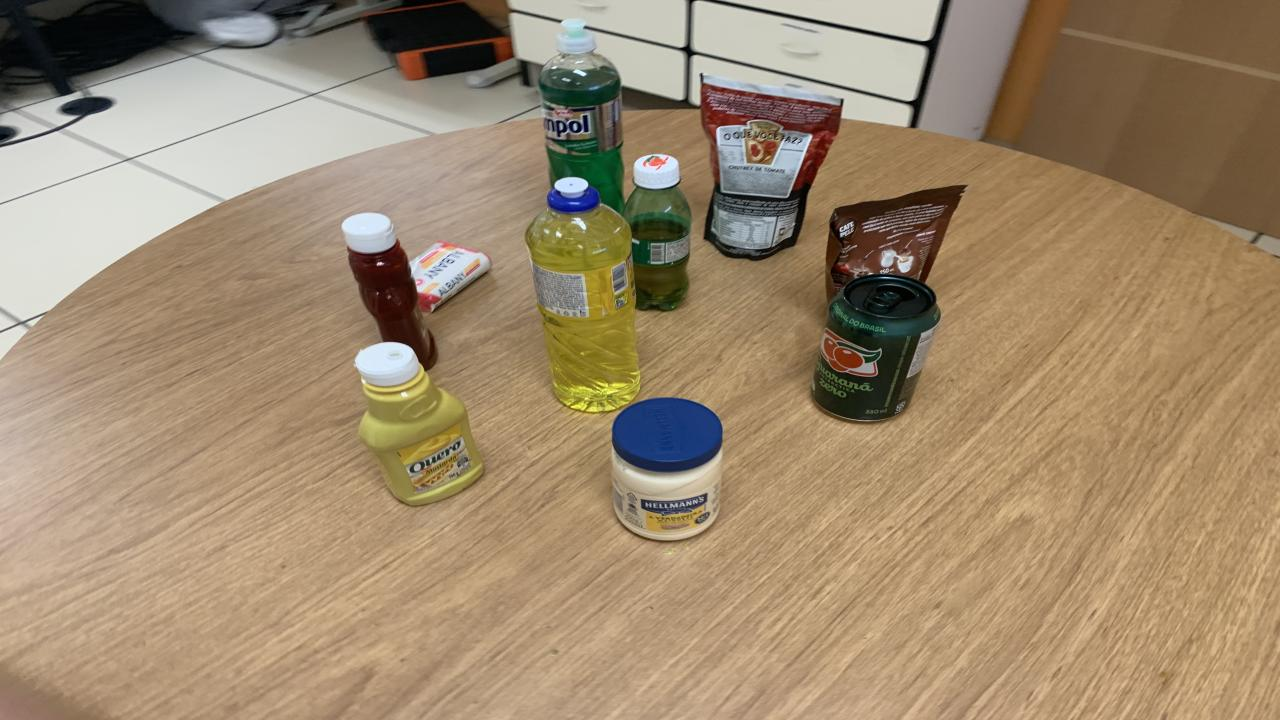Coffee-Pantry_Items: (825, 186, 968, 300)
Detergent-Cleanup_Items: (525, 178, 640, 412), (538, 19, 625, 212)
Guarana-Drinks: (622, 154, 692, 311)
Guarana_Can-Drinks: (812, 276, 940, 422)
Ketchup-Pantry_Items: (342, 212, 438, 369)
Mayonnaise-Pantry_Items: (610, 398, 722, 540)
Mustard-Pantry_Items: (355, 341, 482, 504)
Soap-Cleanup_Items: (410, 242, 490, 311)
Tomato_Sauce-Pantry_Items: (700, 75, 842, 261)
